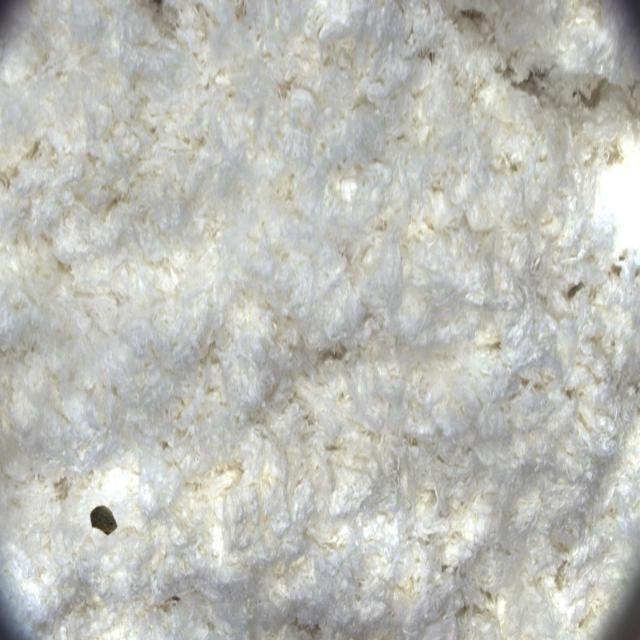dust: (83, 489, 132, 555)
